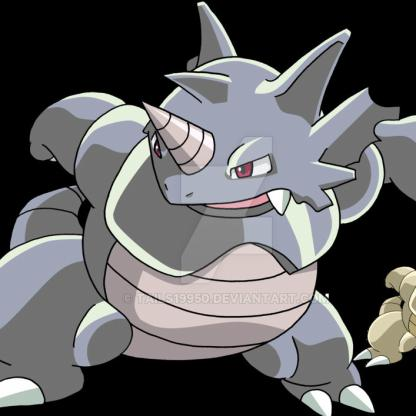Rhydon: (1, 2, 416, 416)
